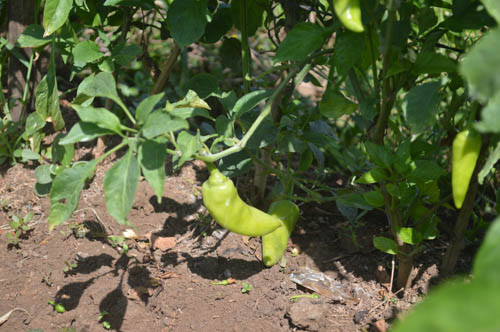ChiliPepper: (202, 181, 279, 237), (260, 200, 303, 271), (451, 132, 480, 211), (333, 2, 366, 35)
